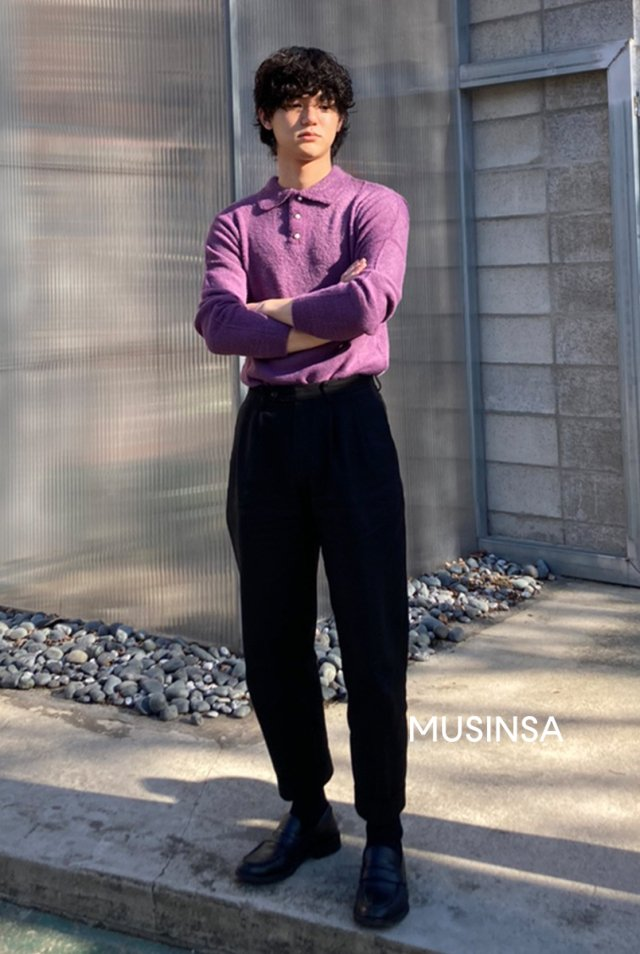Pants: (216, 375, 426, 829)
Shoes: (227, 786, 426, 936)
Top: (181, 162, 428, 391)
